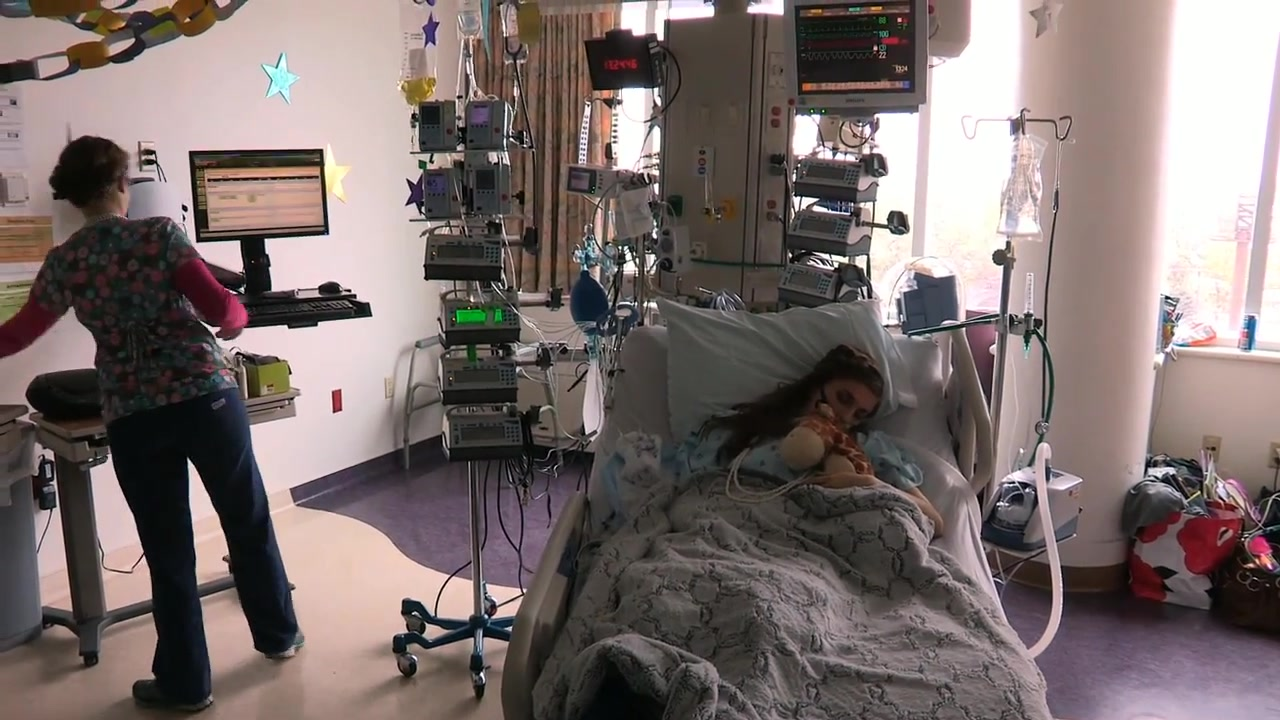bedrail: (498, 489, 593, 720), (937, 317, 993, 499)
bedside_monitor: (783, 1, 928, 114)
breathing_tube: (859, 434, 1065, 659)
computer: (189, 148, 331, 242)
curtain: (470, 2, 621, 296)
hospital_bed: (499, 294, 1055, 720)
infusion_pump: (466, 100, 508, 152), (415, 101, 457, 153), (470, 164, 510, 218), (422, 168, 462, 222)
iv_pole: (958, 104, 1074, 544), (459, 1, 507, 620)
keyboard: (246, 299, 357, 320)
mouse: (317, 280, 344, 295)
overbed_table: (25, 353, 301, 668)
patient: (696, 342, 942, 554)
staff: (1, 135, 306, 713)
syringe_pump: (789, 205, 875, 255), (794, 151, 879, 200), (439, 294, 521, 344), (424, 232, 506, 282), (441, 411, 523, 461), (438, 352, 520, 401), (780, 264, 857, 306)
waste_bin: (1, 403, 46, 656)
